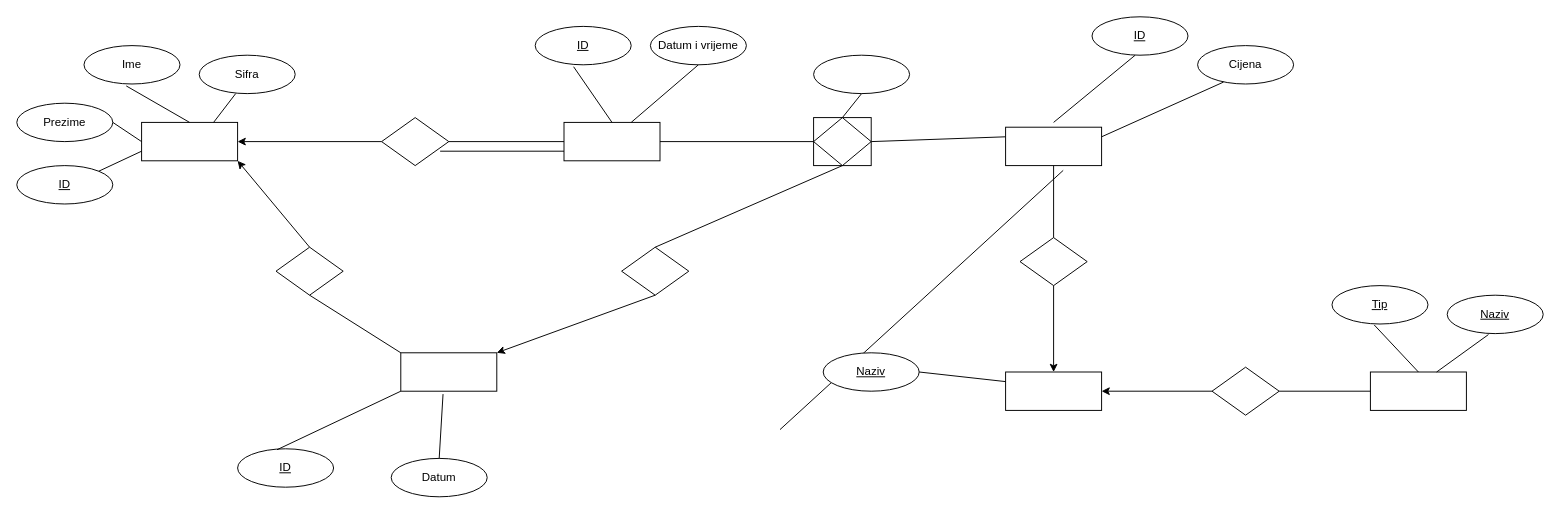
This 1560x514 diagram has some shape labels left out. Here are the shapes that lost their labels. From the top down, the centre of each, then its label:
At point 861,74: "Kolicina".
At point 189,141: "Konobar".
At point 611,141: "Racun".
At point 1053,146: "Proizvod".
At point 448,371: "Izvjestaj".
At point 1053,390: "Kategorija".
At point 1417,390: "Vrsta".
